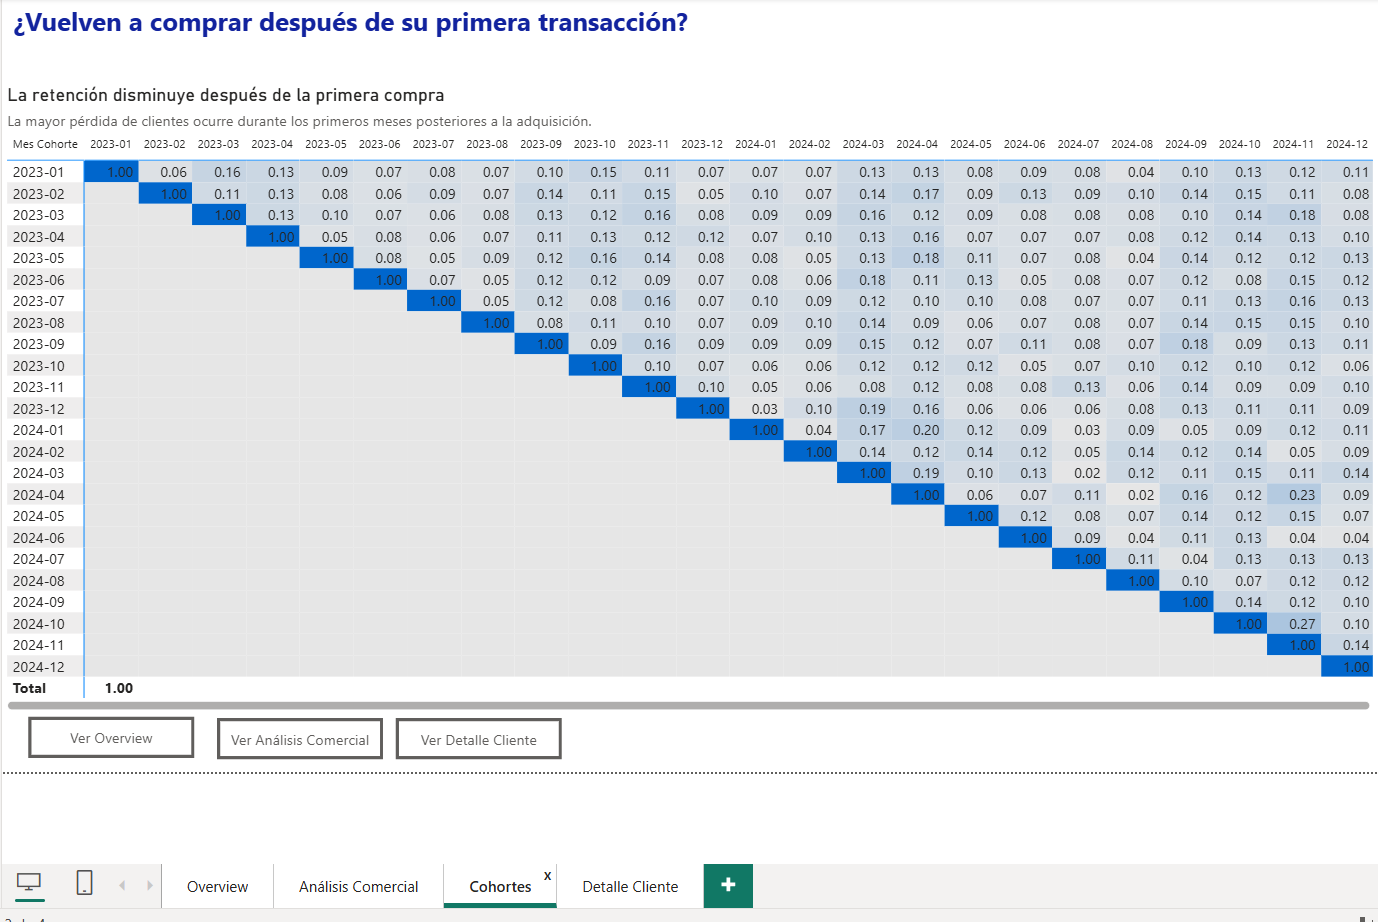

The dashboard page shown, as its layout file describes it:
{"tool":"powerbi","page":{"name":"Cohortes","canvas":[1280,720],"ordinal":2},"visuals":[{"type":"pivotTable","title":"La retención disminuye después de la primera compra","fields":{"Rows":["hecho_ventas_propiedades.Mes Cohorte"],"Columns":["hecho_ventas_propiedades.Mes Venta"],"Values":["hecho_ventas_propiedades.% Retención Cohorte"]},"box":[0,80.2,1280.2,587.2],"z":0},{"type":"actionButton","box":[24.4,668.6,154.7,38.4],"z":1000},{"type":"actionButton","box":[200,669.8,154.7,38.4],"z":2000},{"type":"textbox","box":[0,0,648.8,41.9],"z":3000},{"type":"actionButton","box":[366.3,669.8,154.7,38.4],"z":4000}]}

Visuals, with their boxes on the page's 1280x720 design canvas (x1, y1, x2, y2). These are canvas units, not pixel positions in the 1378x922 screenshot, which may show the page scaled, cropped or inside an application window:
"La retención disminuye después de la primera compra" pivotTable: {"x1": 0, "y1": 80, "x2": 1280, "y2": 667}
actionButton: {"x1": 24, "y1": 669, "x2": 179, "y2": 707}
actionButton: {"x1": 200, "y1": 670, "x2": 355, "y2": 708}
textbox: {"x1": 0, "y1": 0, "x2": 649, "y2": 42}
actionButton: {"x1": 366, "y1": 670, "x2": 521, "y2": 708}
